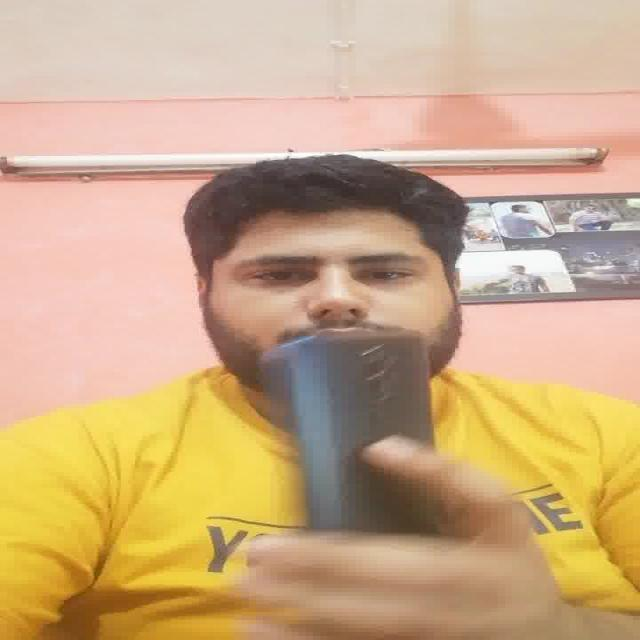Phone: (282, 329, 436, 535)
